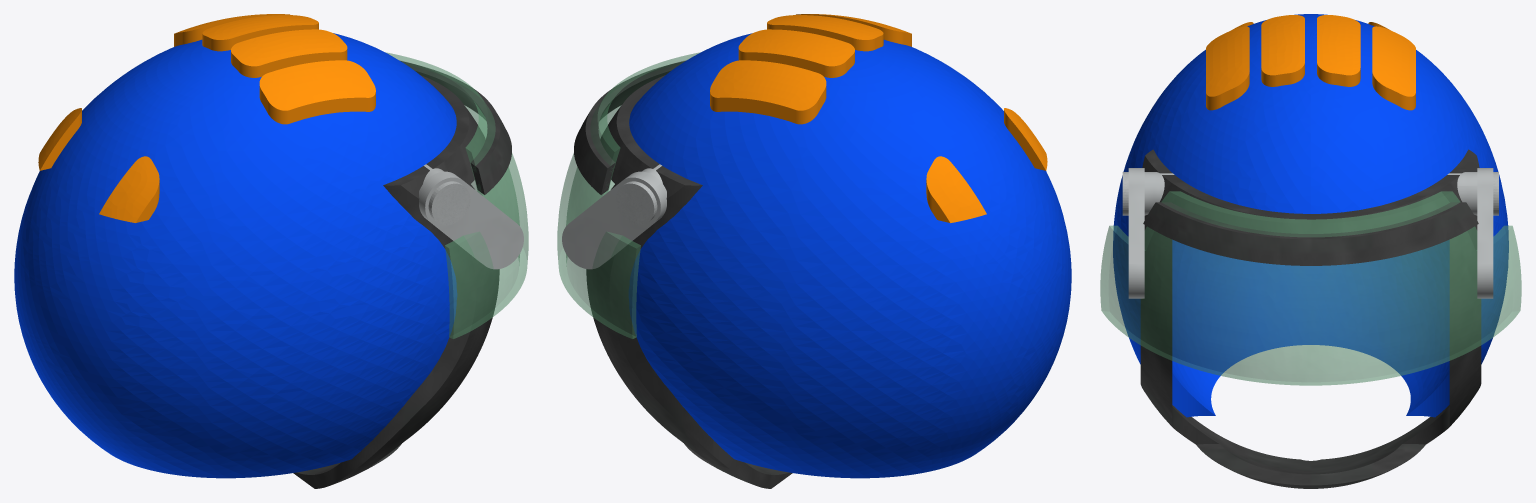
The model's file is Headwear_Racing_helmet__0027.glb.
3 renders of one model, left to right at view 1: azimuth 30°, elevation 25°; view 2: azimuth 150°, elevation 25°; view 3: azimuth 270°, elevation 25°, orthographic. The views are drawn at different scales.
Visible parts, largest first — view 1: shell::shell_dome, shell::face_rim, visor::visor_panel, shell::vent_0, visor::visor_pivot_arms, shell::vent_1, visor::visor_trim, shell::rear_exhaust_1, shell::vent_2, pivot_stud_right::pivot_stud_right, shell::rear_exhaust_0, shell::vent_3; view 2: shell::shell_dome, shell::face_rim, visor::visor_panel, shell::vent_3, visor::visor_pivot_arms, shell::vent_2, visor::visor_trim, shell::rear_exhaust_0, shell::vent_1, pivot_stud_left::pivot_stud_left, shell::rear_exhaust_1, shell::vent_0; view 3: shell::shell_dome, visor::visor_panel, shell::face_rim, visor::visor_trim, visor::visor_pivot_arms, shell::vent_0, shell::vent_3, shell::vent_1, shell::vent_2, visor::visor_axle.
Part boxes in pixels (bbox=[...]): shell::shell_dome: bbox=[14, 33, 456, 478]; shell::face_rim: bbox=[293, 75, 499, 488]; visor::visor_panel: bbox=[386, 52, 528, 338]; shell::vent_0: bbox=[259, 60, 375, 124]; visor::visor_pivot_arms: bbox=[419, 171, 523, 269]; shell::vent_1: bbox=[231, 29, 347, 77]; visor::visor_trim: bbox=[401, 61, 511, 194]; shell::rear_exhaust_1: bbox=[99, 156, 159, 222]; shell::vent_2: bbox=[202, 15, 318, 51]; pivot_stud_right::pivot_stud_right: bbox=[428, 181, 470, 225]; shell::rear_exhaust_0: bbox=[38, 108, 81, 170]; shell::vent_3: bbox=[174, 14, 289, 46]; shell::shell_dome: bbox=[629, 33, 1071, 478]; shell::face_rim: bbox=[586, 75, 792, 488]; visor::visor_panel: bbox=[557, 52, 700, 338]; shell::vent_3: bbox=[710, 60, 826, 124]; visor::visor_pivot_arms: bbox=[562, 171, 666, 269]; shell::vent_2: bbox=[738, 29, 854, 77]; visor::visor_trim: bbox=[574, 61, 684, 194]; shell::rear_exhaust_0: bbox=[926, 156, 986, 222]; shell::vent_1: bbox=[767, 15, 883, 51]; pivot_stud_left::pivot_stud_left: bbox=[615, 181, 657, 225]; shell::rear_exhaust_1: bbox=[1004, 108, 1047, 170]; shell::vent_0: bbox=[796, 14, 911, 46]; shell::shell_dome: bbox=[1113, 14, 1508, 417]; visor::visor_panel: bbox=[1100, 191, 1521, 385]; shell::face_rim: bbox=[1140, 149, 1481, 488]; visor::visor_trim: bbox=[1143, 202, 1478, 265]; visor::visor_pivot_arms: bbox=[1128, 168, 1493, 298]; shell::vent_0: bbox=[1206, 26, 1249, 110]; shell::vent_3: bbox=[1372, 26, 1415, 110]; shell::vent_1: bbox=[1261, 15, 1304, 86]; shell::vent_2: bbox=[1317, 15, 1360, 86]; visor::visor_axle: bbox=[1144, 172, 1477, 215].
Size of the model in its own units: 0.264 by 0.2347 by 0.2127.
Materials: 6 (4 with a texture image).
